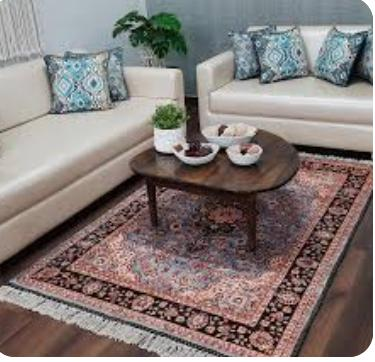carpet: (7, 134, 374, 362)
